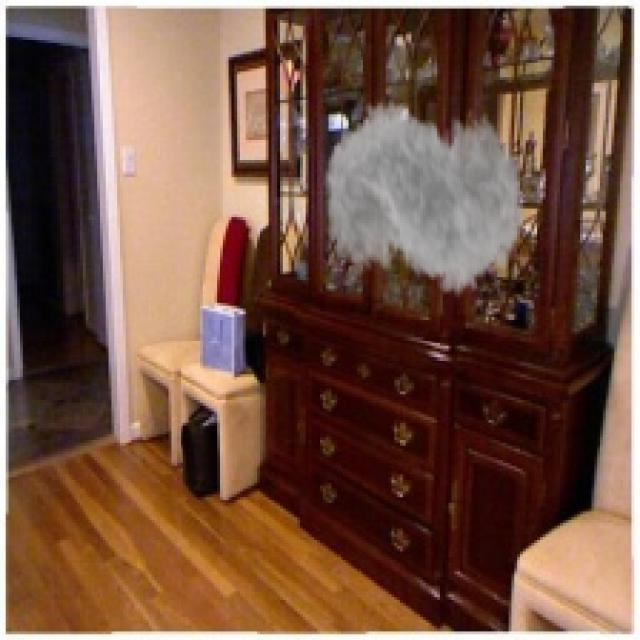Smoke: (323, 74, 526, 314)
